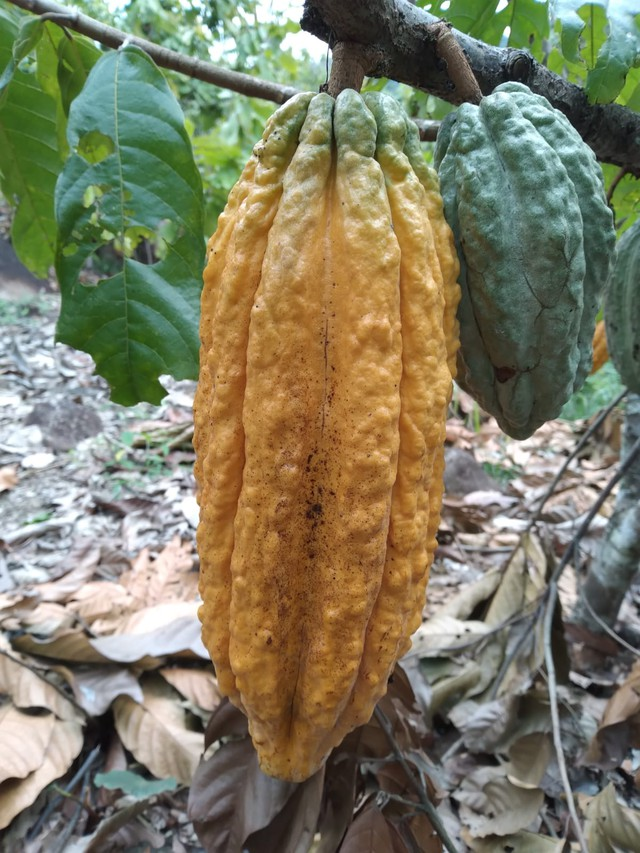Health: (189, 82, 468, 784)
